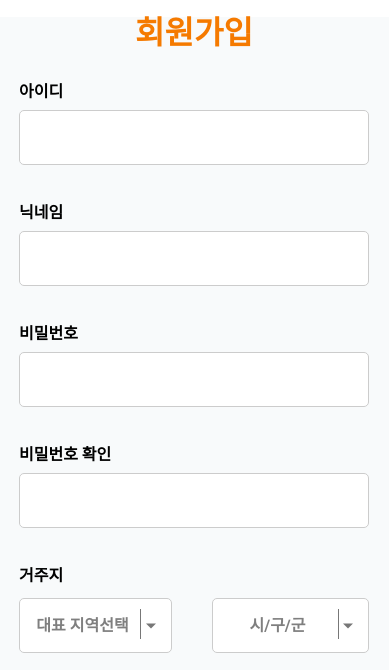
it: 회원가입 컴포넌트 › [ERROR] 패스워드를 입력했다면 패스워드 표시 아이콘 나오기
Type "123123" into the field with test id "pw-input" at (194, 380), box [19,352,369,407]
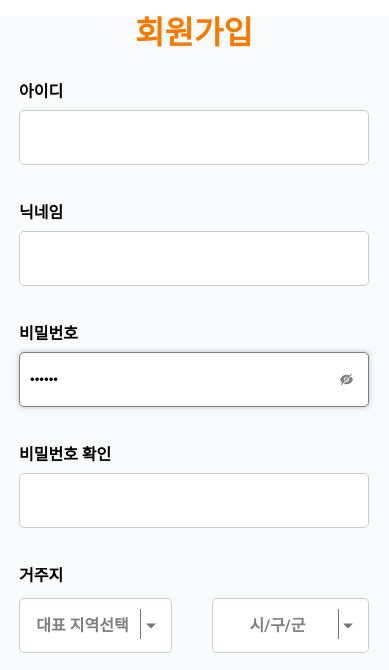
Type "123123" into the field with test id "pw-differ" at (194, 500), box [19,473,369,528]
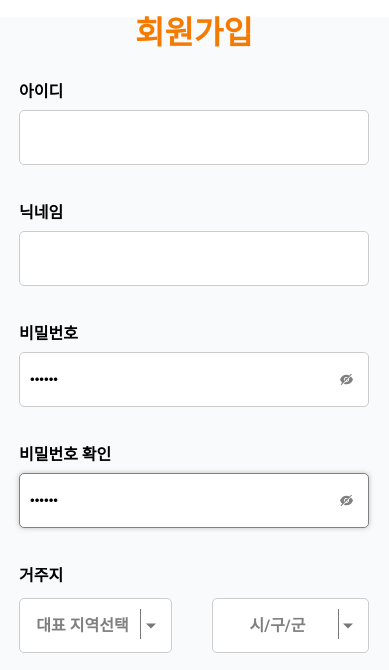
Check: the number of icons with test id "ps-icon" is 2, box [339,372,354,387]; [339,493,354,508]
